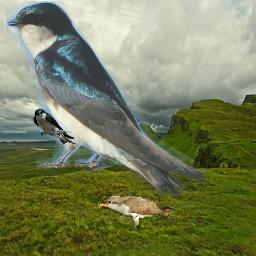Cuckoo: (96, 195, 176, 233)
Swallow: (6, 1, 208, 197), (33, 109, 75, 144)
